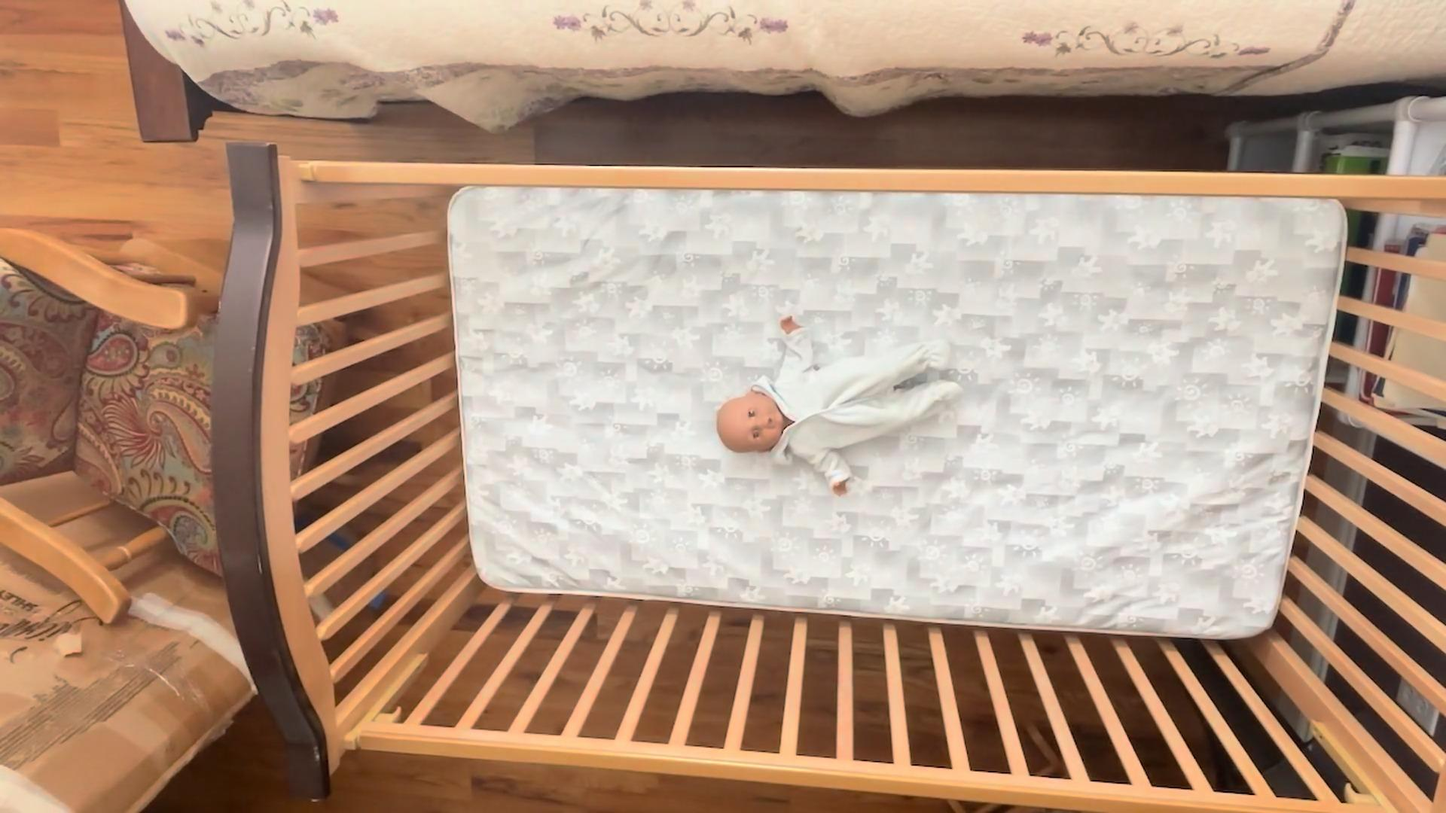baby: (714, 309, 967, 500)
